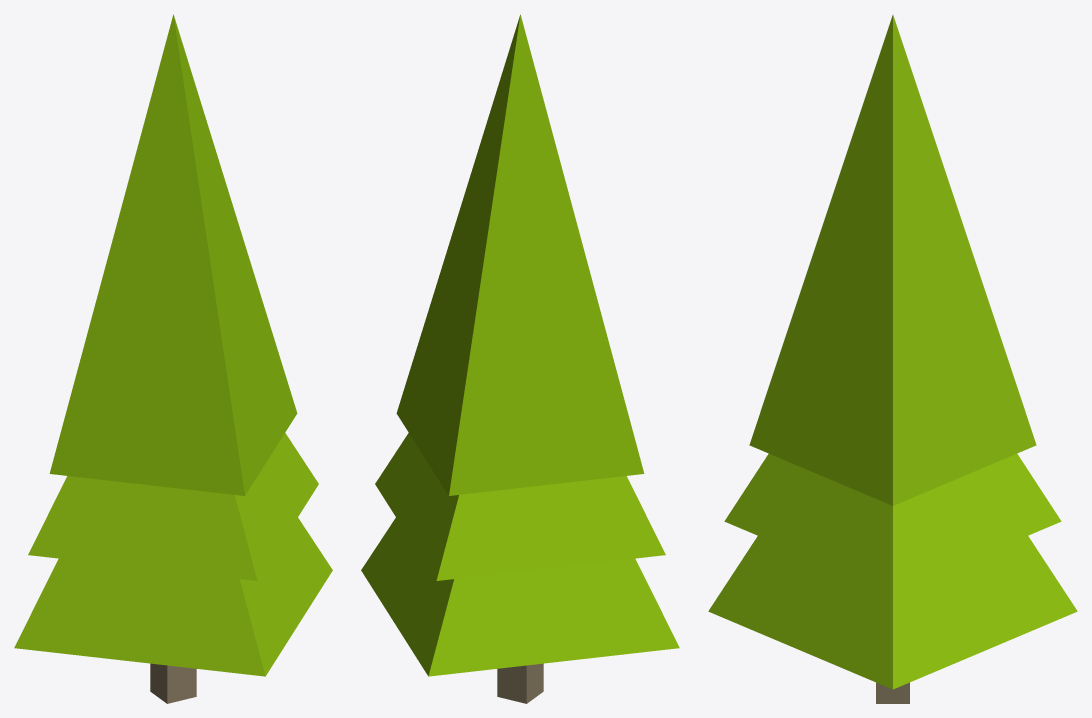
File: pine_skewed_12.fbx
3 views of the same model, side by side, from view 1: azimuth 30°, elevation 25°; view 2: azimuth 150°, elevation 25°; view 3: azimuth 270°, elevation 25° (orthographic).
Parts seen in each view (by area): view 1: pine_skewed_12; view 2: pine_skewed_12; view 3: pine_skewed_12.
Part boxes in pixels (box(x1,y1,x2,y2)): pine_skewed_12: box(14, 14, 332, 703); pine_skewed_12: box(361, 14, 679, 703); pine_skewed_12: box(708, 15, 1077, 703).
Bounding box in the file's own units: 131 × 267 × 131.
